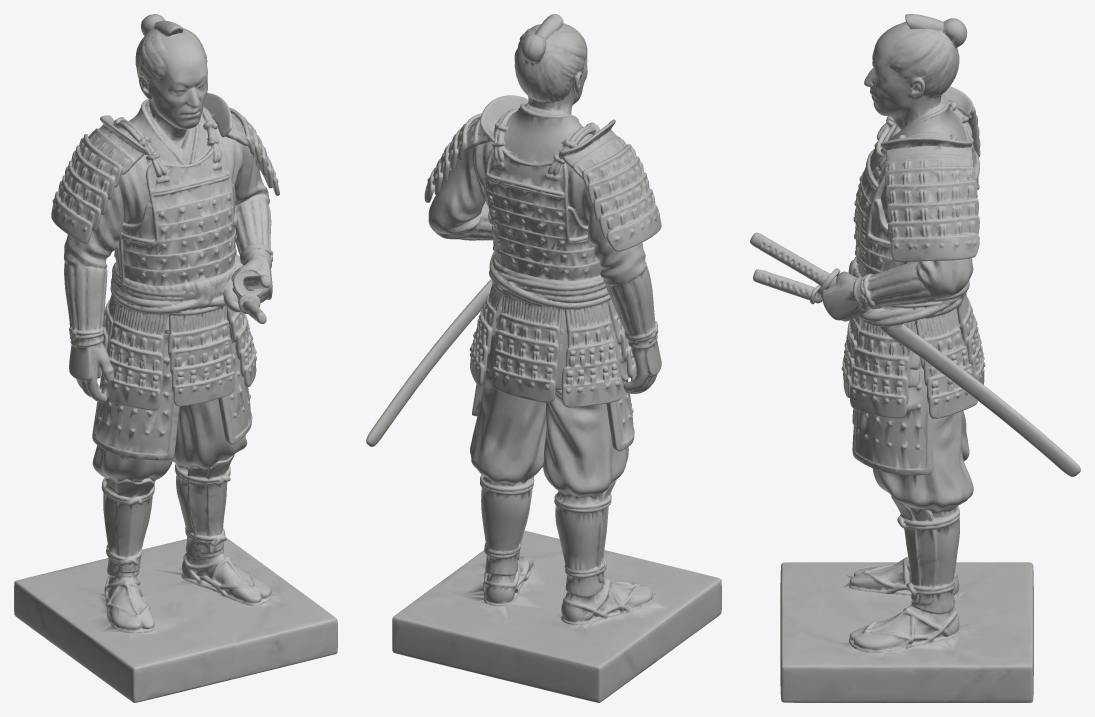
The model's file is samurai.glb.
The picture shows the model from 3 angles, left to right: view 1: azimuth 30°, elevation 25°; view 2: azimuth 150°, elevation 25°; view 3: azimuth 270°, elevation 25°; orthographic projection. The views are drawn at different scales.
Bounding box in the file's own units: 0.6919 × 1.9 × 0.8948.
Materials: 1 (1 with a texture image).
